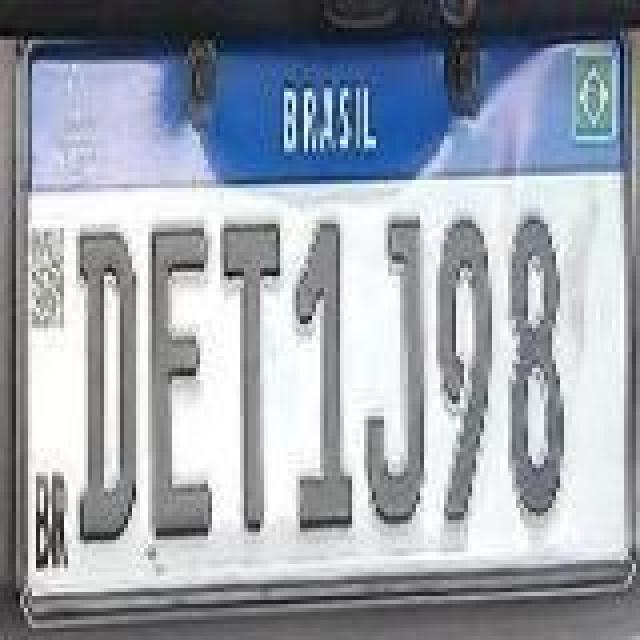1: (294, 218, 354, 534)
8: (506, 210, 566, 526)
9: (434, 212, 494, 524)
D: (78, 228, 138, 548)
E: (148, 224, 212, 544)
J: (366, 210, 426, 526)
T: (218, 218, 278, 534)
